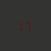one: (19, 19, 24, 30)
seven: (25, 19, 30, 31)
